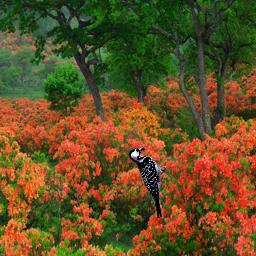Woodpecker: (128, 145, 166, 218)
